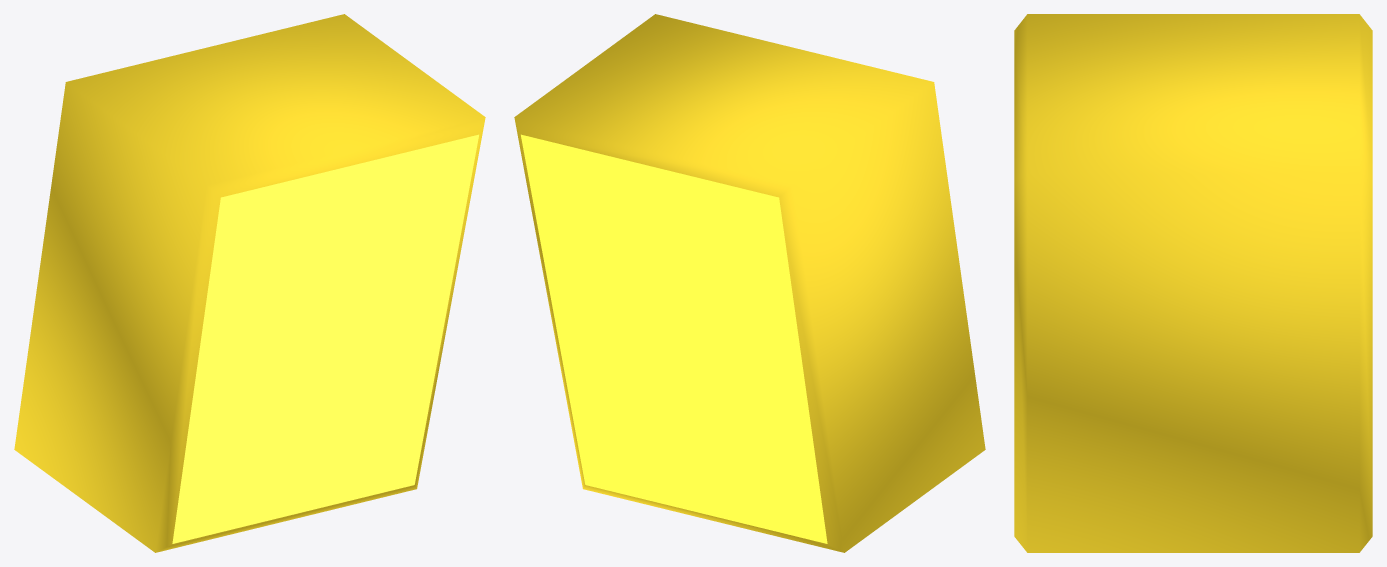
3 views of the same model, side by side, from view 1: azimuth 30°, elevation 25°; view 2: azimuth 150°, elevation 25°; view 3: azimuth 270°, elevation 25° (orthographic). The views are drawn at different scales.
Visible parts, largest first — view 1: glyph; view 2: glyph; view 3: glyph.
Part boxes in pixels (<box>): glyph: <box>14,14,485,552</box>; glyph: <box>514,14,985,552</box>; glyph: <box>1014,14,1372,552</box>.
Bounding box in the file's own units: 0.0203 × 0.0208 × 0.0162.
